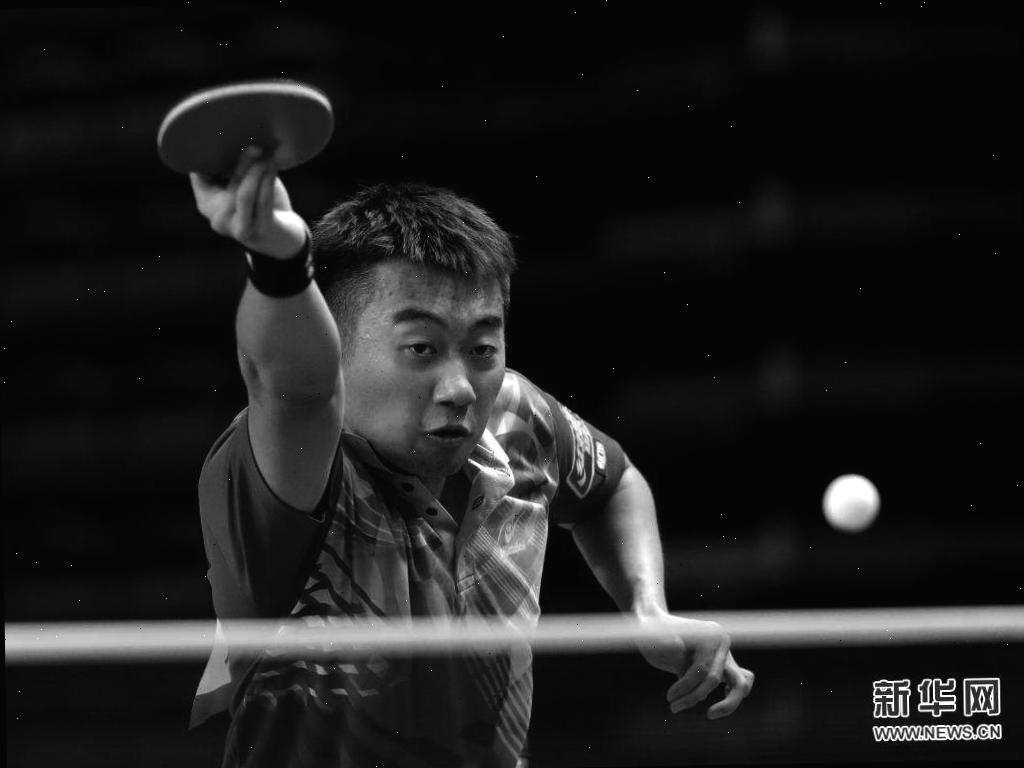ball: (812, 466, 884, 536)
